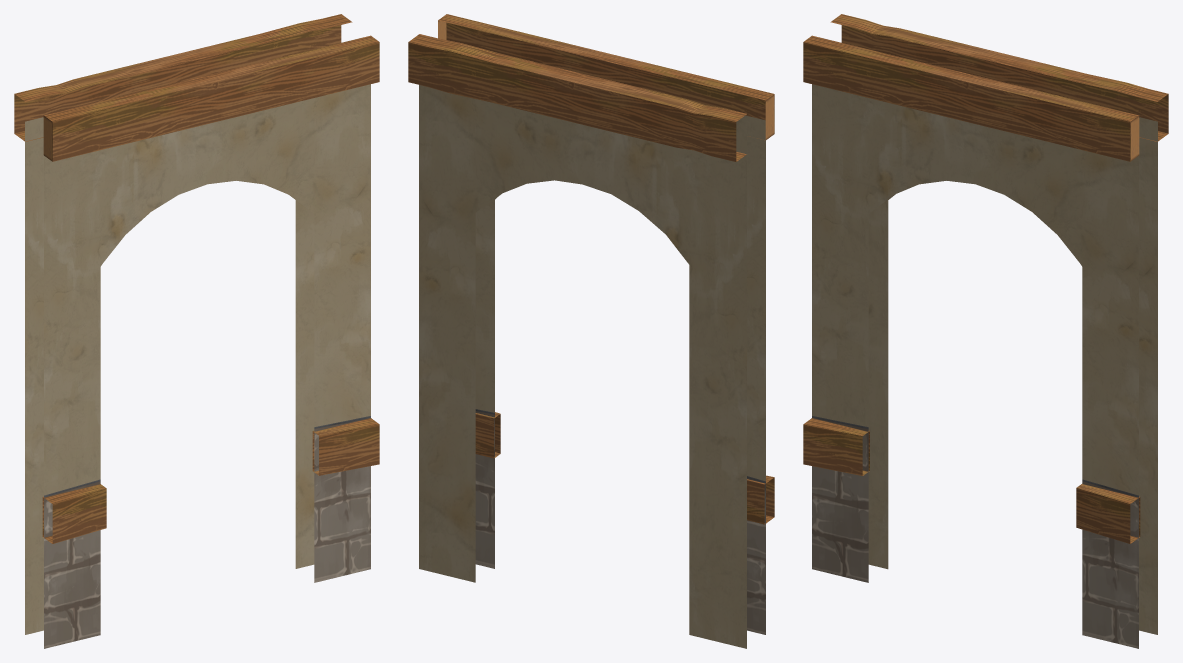
Rendered from Wall_Plaster_Door_Round.gltf.
3 renders of one model, left to right at view 1: azimuth 30°, elevation 25°; view 2: azimuth 150°, elevation 25°; view 3: azimuth 330°, elevation 25°, orthographic.
Visible parts, largest first — view 1: Wall_Plaster_Door_Round; view 2: Wall_Plaster_Door_Round; view 3: Wall_Plaster_Door_Round.
Boxes of the visible parts, left/top/right/bottom form: Wall_Plaster_Door_Round: left=14, top=14, right=379, bottom=648; Wall_Plaster_Door_Round: left=408, top=14, right=774, bottom=648; Wall_Plaster_Door_Round: left=803, top=14, right=1168, bottom=648.
Bounding box in the file's own units: 2 × 3.12 × 0.4065.
Materials: 3 (3 with a texture image).
